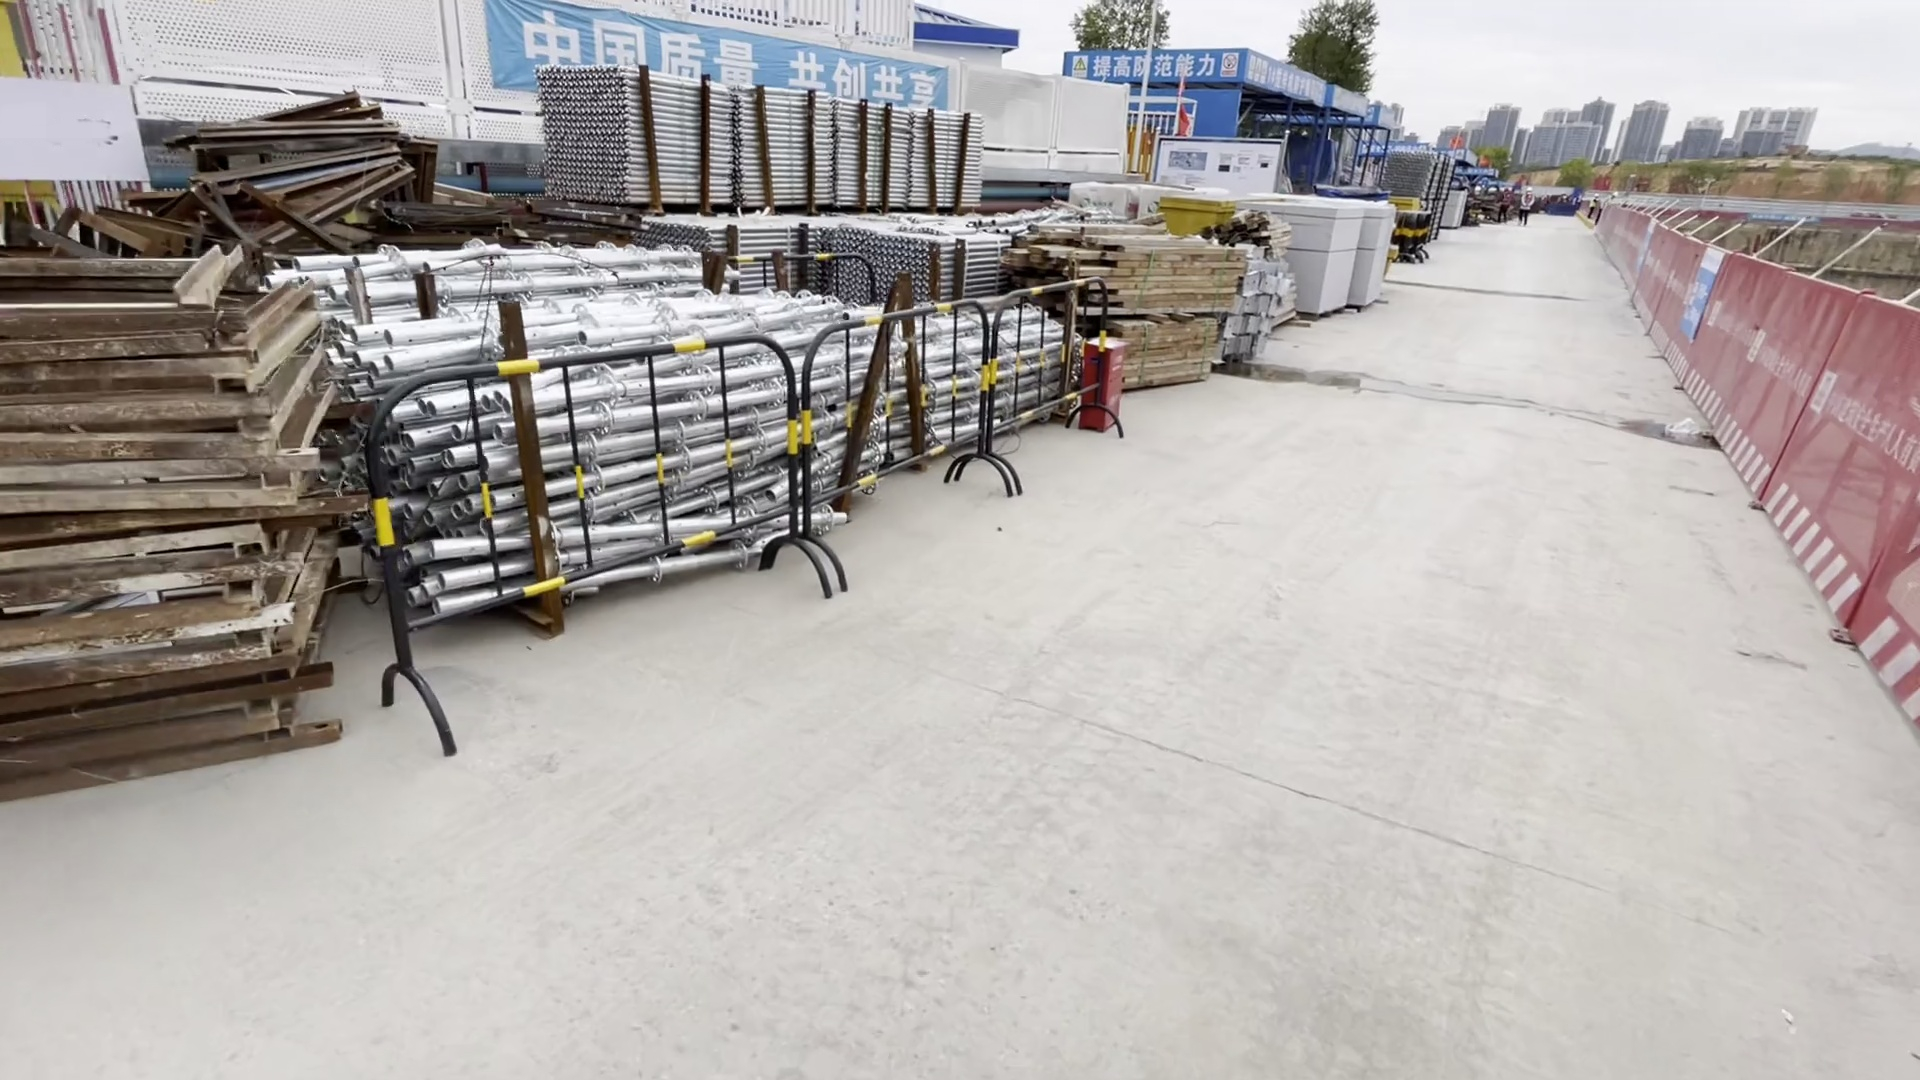brick: (1269, 200, 1400, 313), (1436, 189, 1472, 229)
fence: (1592, 189, 1920, 723)
scaffold: (334, 258, 857, 505), (527, 62, 982, 204), (670, 200, 996, 295)
slogan: (476, 1, 973, 119), (1076, 40, 1244, 84)
wood: (1036, 227, 1234, 382)
